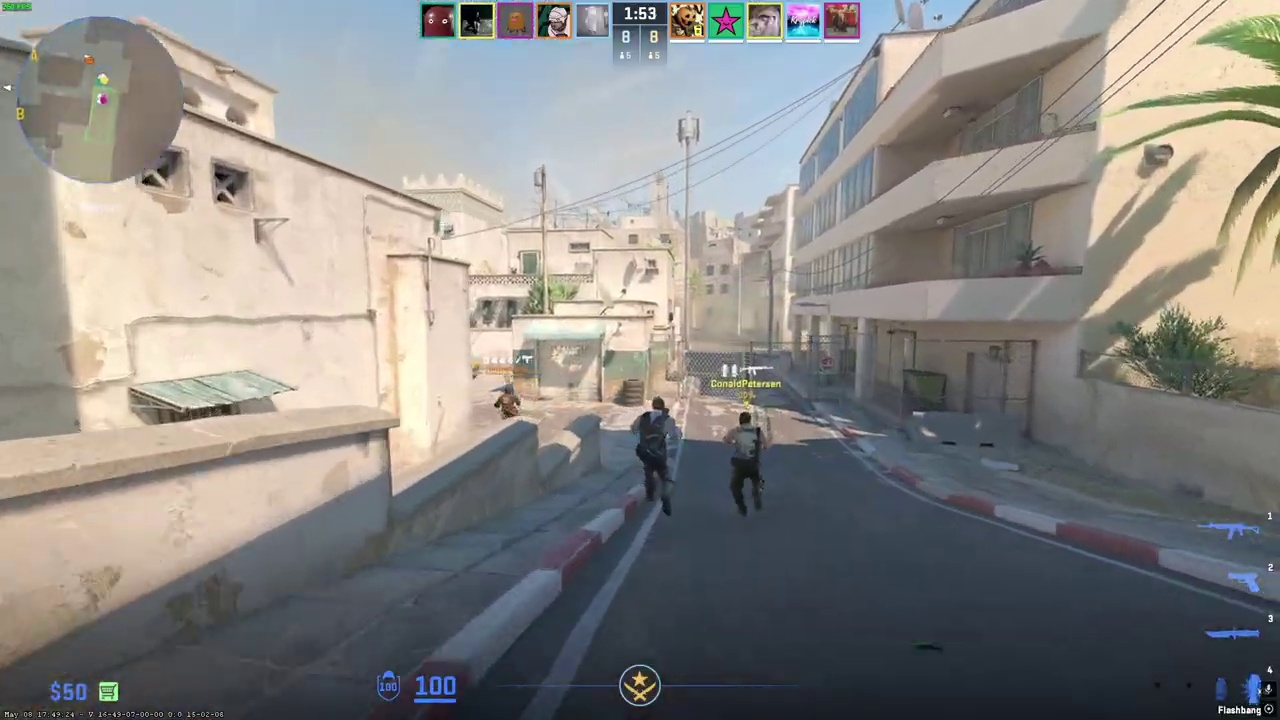Terrorist: (635, 396, 677, 514), (726, 412, 766, 518), (497, 387, 519, 418)
